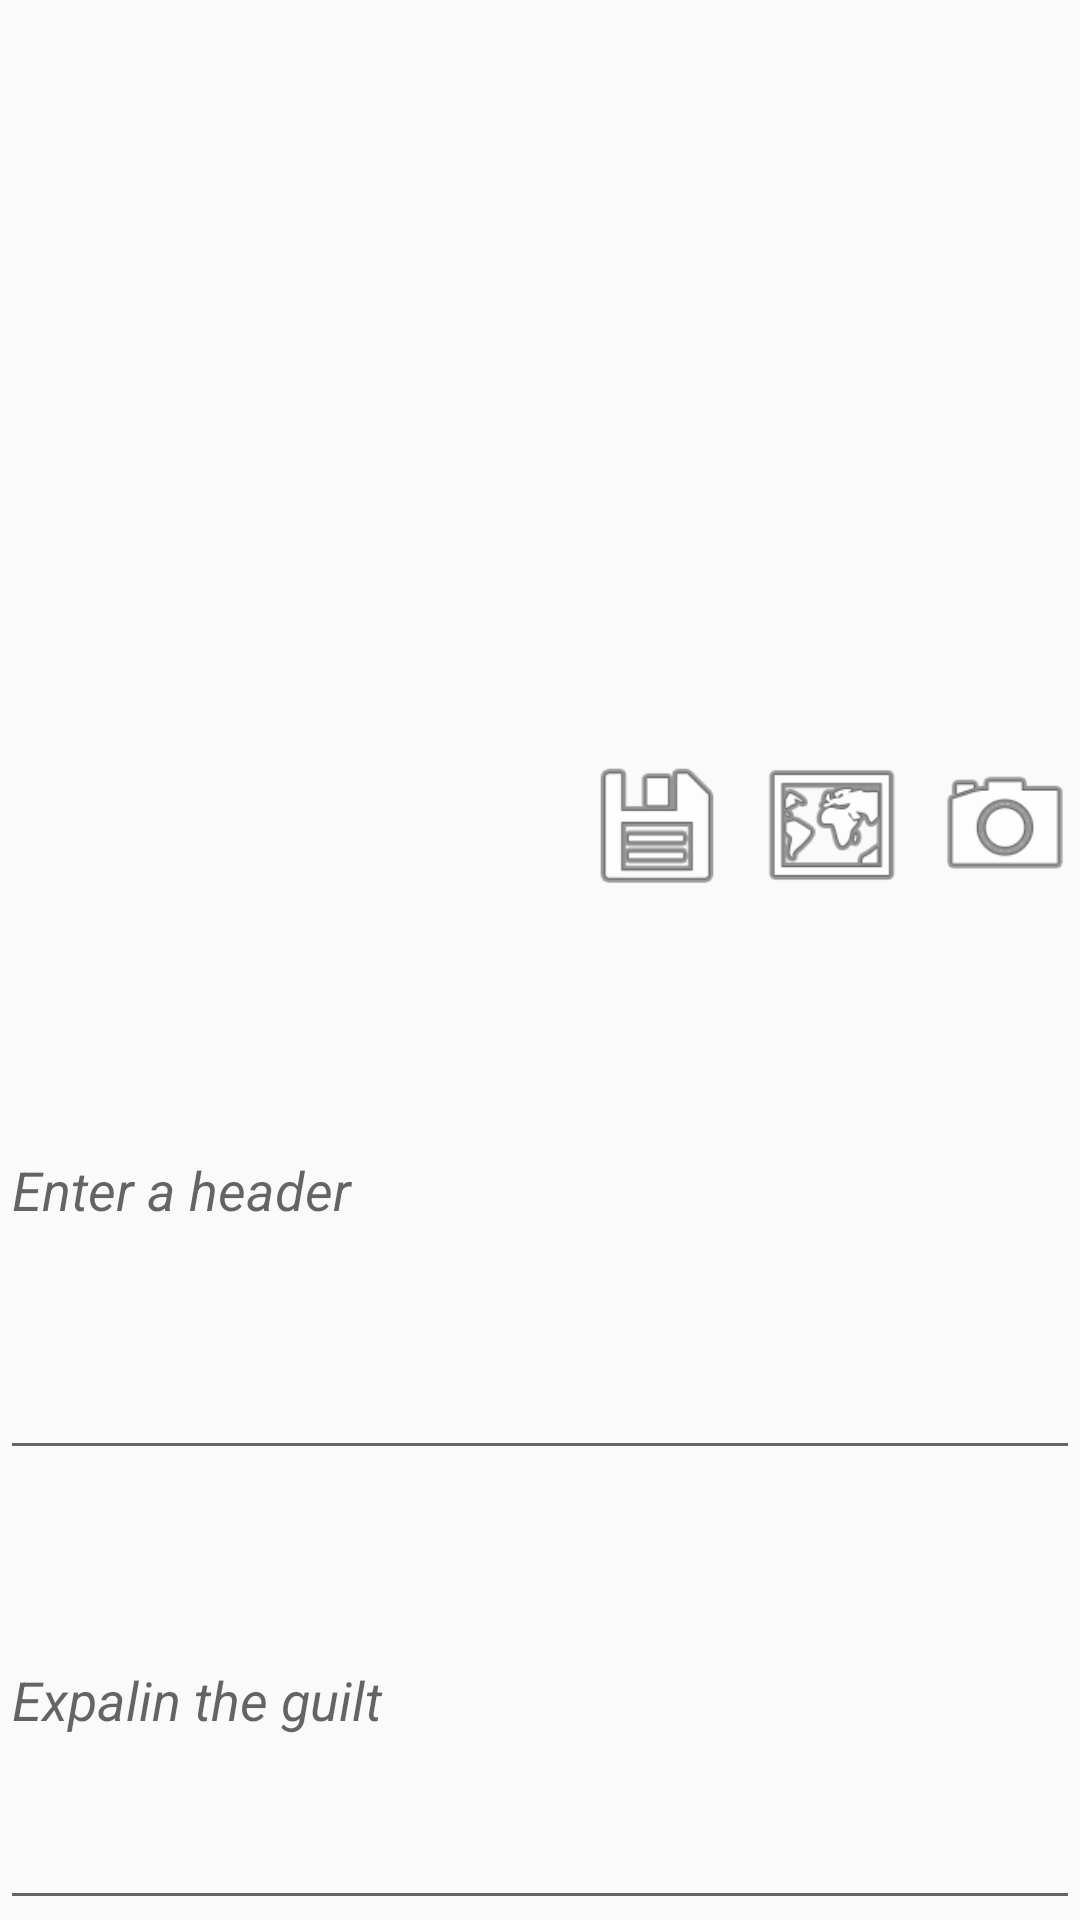

Screen size 1080 × 1920. Icon name, then its box in pixels as (x1, y1, x2, y2):
camera: (947, 776, 1063, 869)
mapmode: (769, 770, 894, 880)
save: (600, 768, 714, 883)
